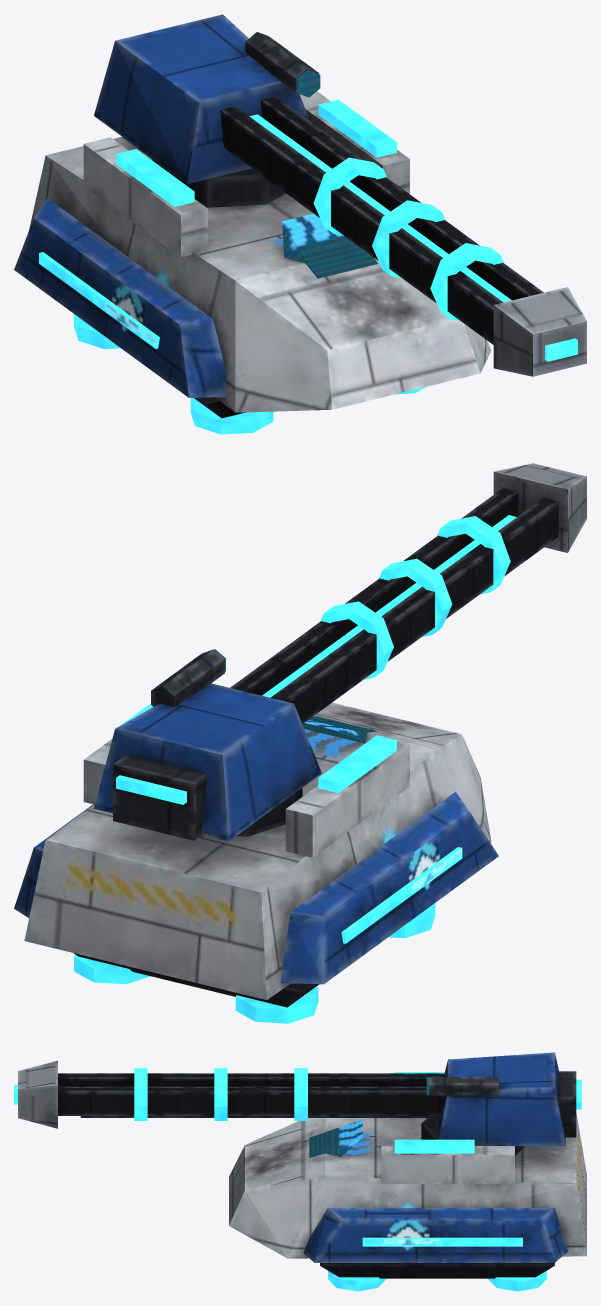
Rendered from u_lancer2_w.glb.
3 views of the same model, one above another, from view 1: azimuth 30°, elevation 25°; view 2: azimuth 150°, elevation 25°; view 3: azimuth 270°, elevation 25° (orthographic). The views are drawn at different scales.
Parts seen in each view (by area): view 1: u_lancer2_w; view 2: u_lancer2_w; view 3: u_lancer2_w.
Part boxes in pixels (box(x1,y1,x2,y2)): u_lancer2_w: box(14, 14, 586, 434); u_lancer2_w: box(14, 463, 586, 1023); u_lancer2_w: box(14, 1052, 586, 1291).
Size of the model in its own units: 1.01 by 0.869 by 2.36.
1 material, 1 textured.
